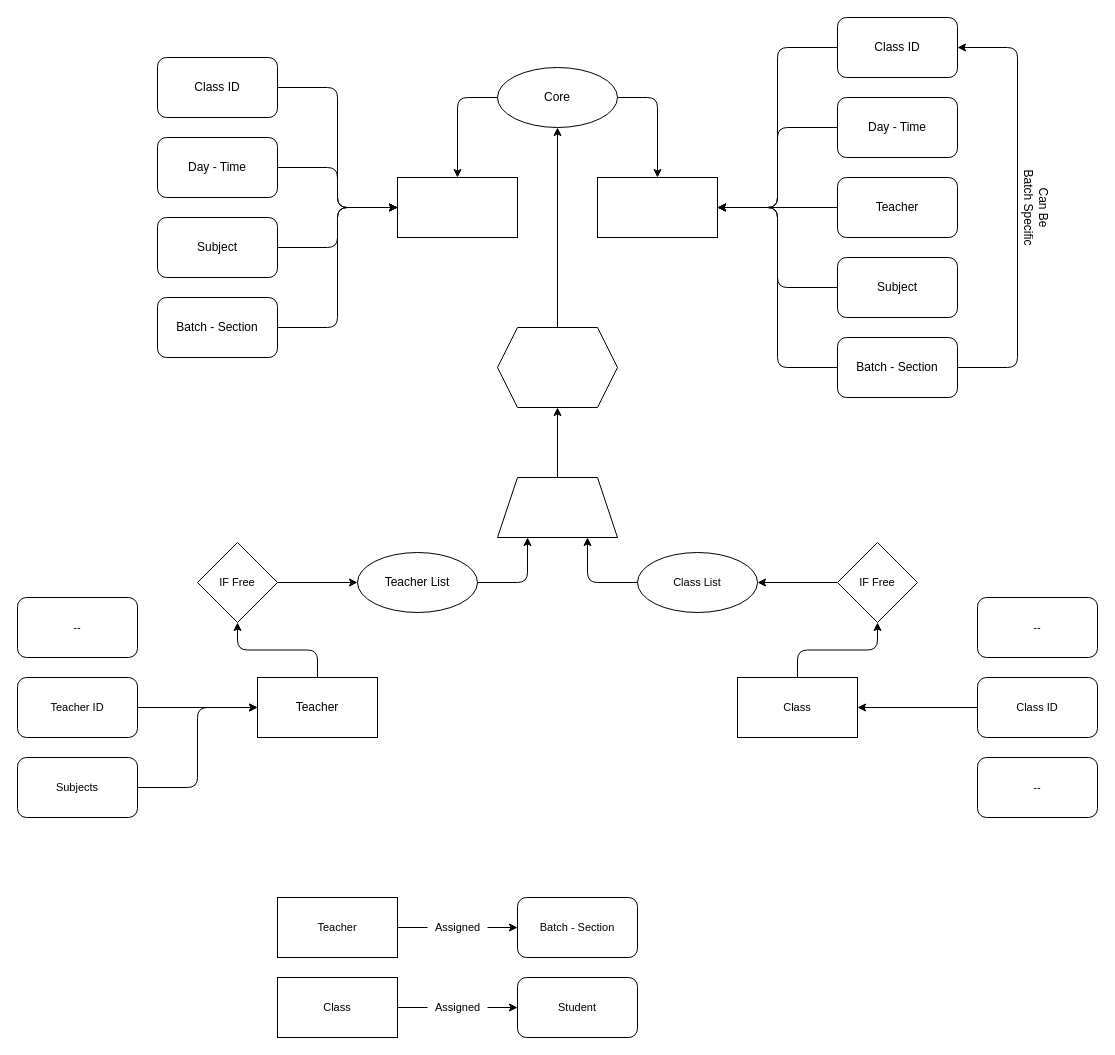
The diagram is 1115 pixels wide and 1055 high, and some of its shapes have lost their labels. The box of each missing label's shape, as (x1, y1, x2, y2) in pixels:
Assign Teachers to Classes: (496, 476, 618, 538)
Student Time Table: (596, 176, 718, 238)
Teacher Class: (496, 326, 618, 408)
Teacher Time Table: (396, 176, 518, 238)
